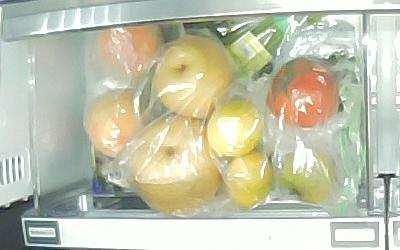peach_vinyl: (84, 88, 144, 157), (97, 24, 165, 77)
pear_vinyl: (127, 116, 224, 214), (152, 36, 231, 117)
tangerine_vinyl: (206, 96, 263, 158), (225, 150, 274, 208)
tomato_vinyl: (265, 56, 340, 128), (279, 145, 338, 205)
